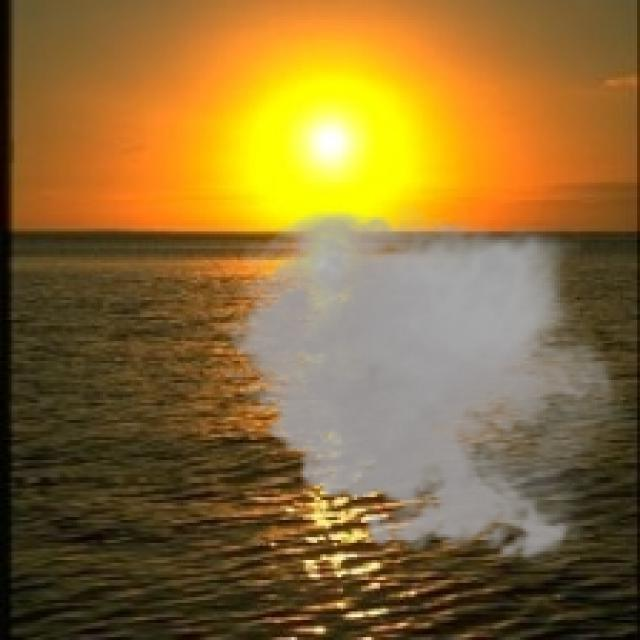Smoke: (212, 197, 637, 572)
